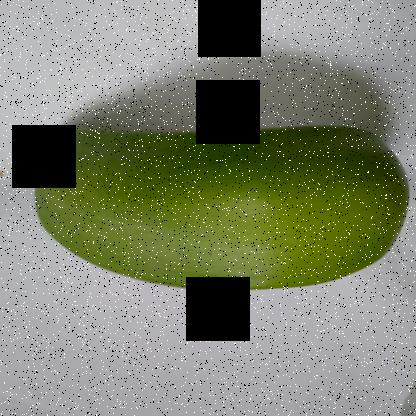freshunripe: (26, 112, 410, 309)
